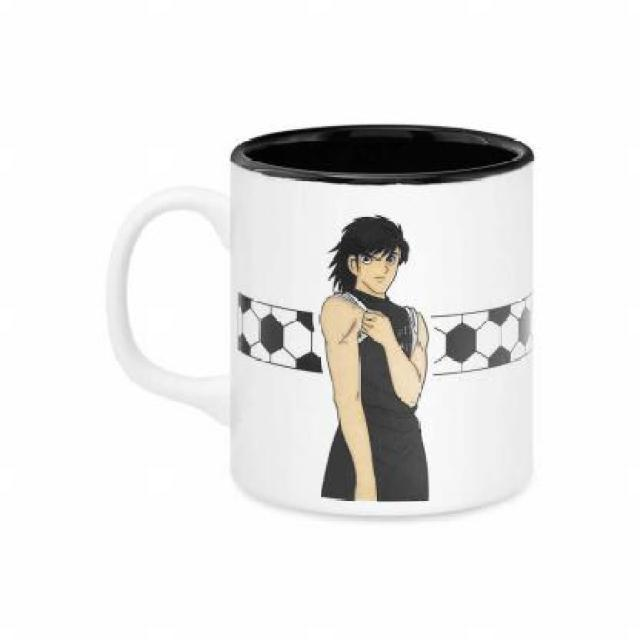taza: (106, 122, 534, 520)
